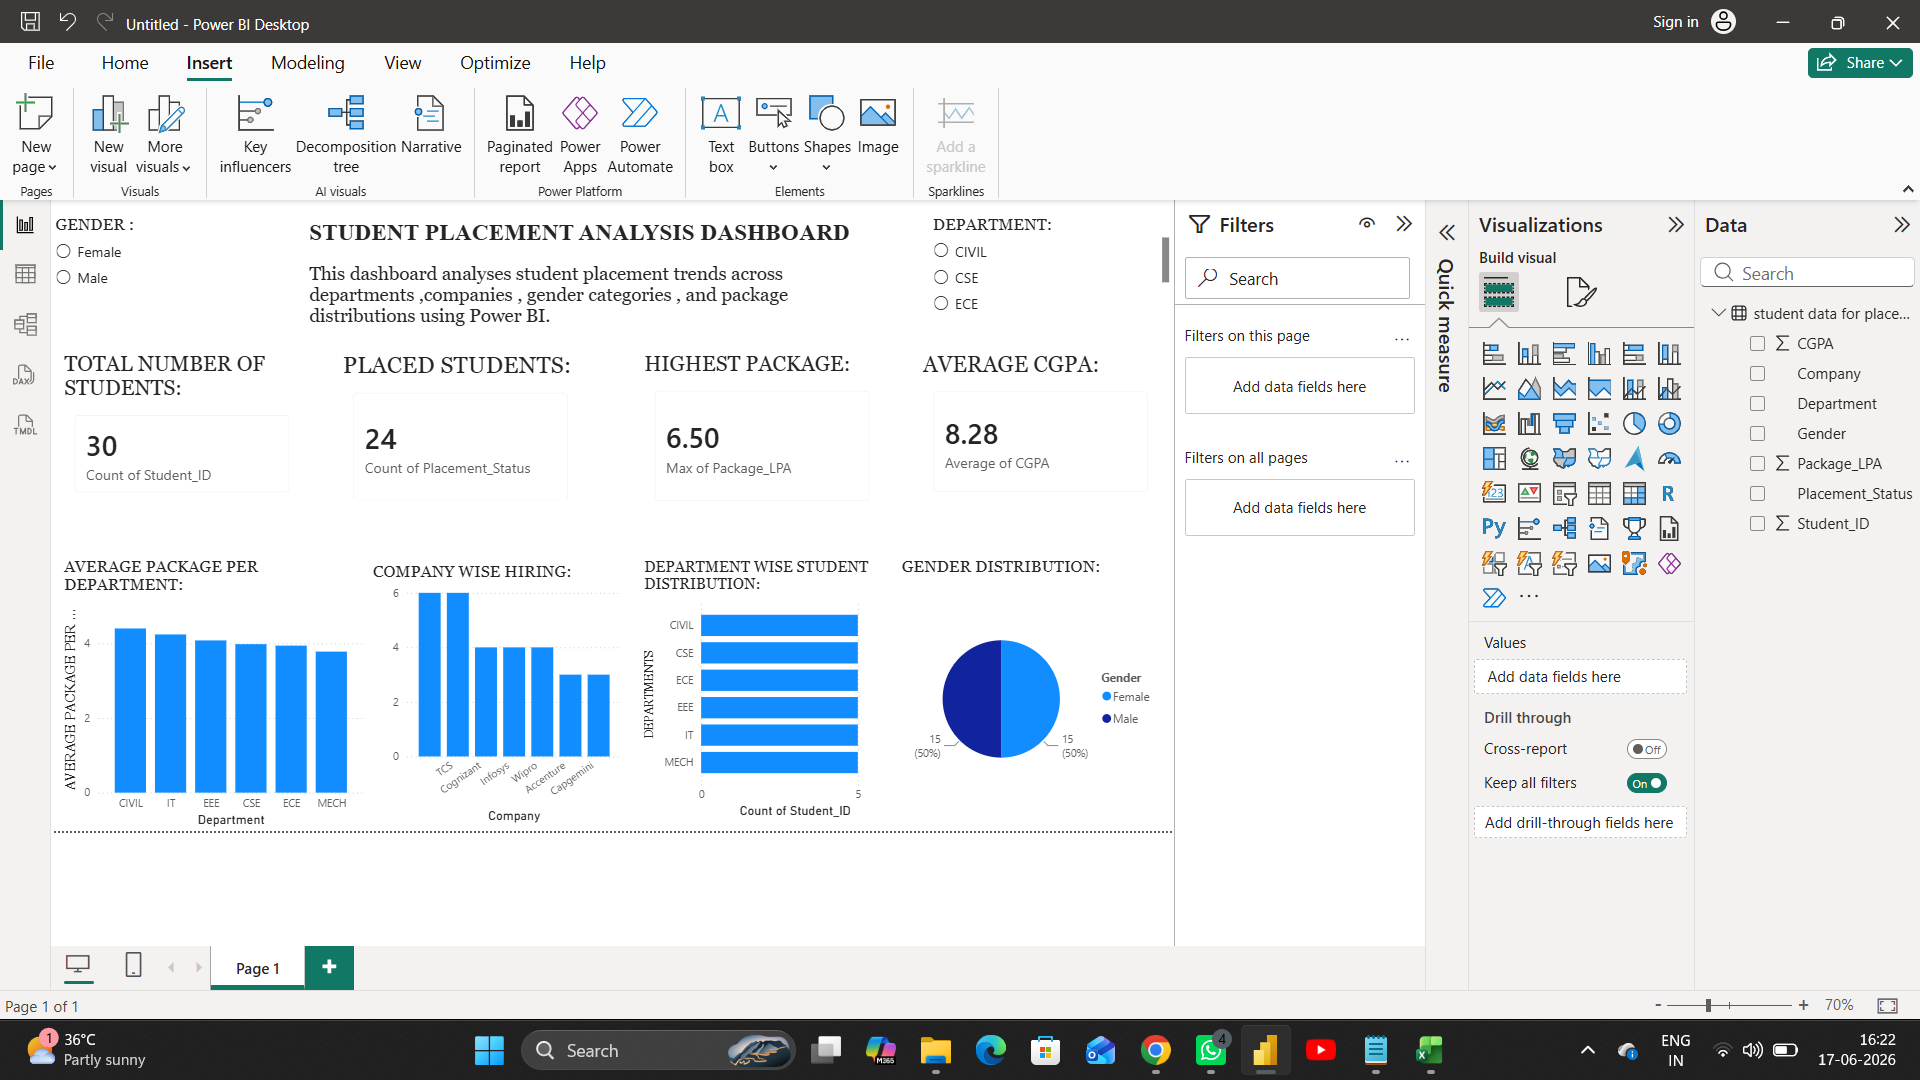

Layout of this report page (visuals, bound fields, positions):
{"tool":"powerbi","page":{"name":"Page 1","canvas":[1280,720],"ordinal":0},"visuals":[{"type":"cardVisual","title":"TOTAL NUMBER OF STUDENTS:","fields":{"Data":["CountNonNull(student data for placement prediction xlsx.Student_ID)"]},"box":[10,172.5,279.4,178.2],"z":0},{"type":"cardVisual","title":"PLACED STUDENTS:","fields":{"Data":["CountNonNull(student data for placement prediction xlsx.Placement_Status)"]},"box":[327.8,172.5,279.4,188.2],"z":1000},{"type":"cardVisual","title":"HIGHEST PACKAGE:","fields":{"Data":["Max(student data for placement prediction xlsx.Package_LPA)"]},"box":[671.4,172.5,279.4,188.2],"z":2000},{"type":"cardVisual","title":"AVERAGE CGPA:","fields":{"Data":["Avg(student data for placement prediction xlsx.CGPA)"]},"box":[989.2,172.5,279.4,178.2],"z":3000},{"type":"clusteredBarChart","title":"DEPARTMENT WISE STUDENT DISTRIBUTION:","fields":{"Category":["student data for placement prediction xlsx.Department"],"Y":["CountNonNull(student data for placement prediction xlsx.Student_ID)"]},"box":[671.4,407.7,293.6,302.2],"z":4000},{"type":"clusteredColumnChart","title":"COMPANY WISE HIRING:","fields":{"Category":["student data for placement prediction xlsx.Company"],"Y":["CountNonNull(student data for placement prediction xlsx.Student_ID)"]},"box":[362,413.4,293.6,302.2],"z":5000},{"type":"pieChart","title":"GENDER DISTRIBUTION:","fields":{"Category":["student data for placement prediction xlsx.Gender"],"Y":["CountNonNull(student data for placement prediction xlsx.Student_ID)"]},"box":[965,407.7,303.6,302.2],"z":6000},{"type":"clusteredColumnChart","title":"AVERAGE PACKAGE PER DEPARTMENT:","fields":{"Category":["student data for placement prediction xlsx.Department"],"Y":["Avg(student data for placement prediction xlsx.Package_LPA)"]},"box":[10,407.7,352.1,312.2],"z":7000},{"type":"listSlicer","title":"DEPARTMENT:","fields":{"Values":["student data for placement prediction xlsx.Department"]},"box":[1000.6,17.1,279.4,126.9],"z":8000},{"type":"listSlicer","title":"GENDER :","fields":{"Values":["student data for placement prediction xlsx.Gender"]},"box":[0,17.1,211,126.9],"z":9000},{"type":"textbox","box":[289.4,17.1,661.4,78.4],"z":10000},{"type":"textbox","box":[289.4,67,632.9,105.5],"z":11000}]}

Visuals, with their boxes on the page's 1280x720 design canvas (x1, y1, x2, y2). These are canvas units, not pixel positions in the 1920x1080 screenshot, which may show the page scaled, cropped or inside an application window:
"TOTAL NUMBER OF STUDENTS:" cardVisual: [10, 172, 289, 351]
"PLACED STUDENTS:" cardVisual: [328, 172, 607, 361]
"HIGHEST PACKAGE:" cardVisual: [671, 172, 951, 361]
"AVERAGE CGPA:" cardVisual: [989, 172, 1269, 351]
"DEPARTMENT WISE STUDENT DISTRIBUTION:" clusteredBarChart: [671, 408, 965, 710]
"COMPANY WISE HIRING:" clusteredColumnChart: [362, 413, 656, 716]
"GENDER DISTRIBUTION:" pieChart: [965, 408, 1269, 710]
"AVERAGE PACKAGE PER DEPARTMENT:" clusteredColumnChart: [10, 408, 362, 720]
"DEPARTMENT:" listSlicer: [1001, 17, 1280, 144]
"GENDER :" listSlicer: [0, 17, 211, 144]
textbox: [289, 17, 951, 96]
textbox: [289, 67, 922, 172]
